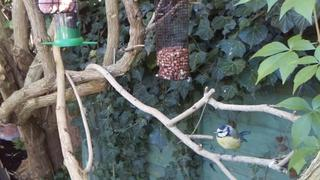blue tit: (214, 124, 251, 161)
